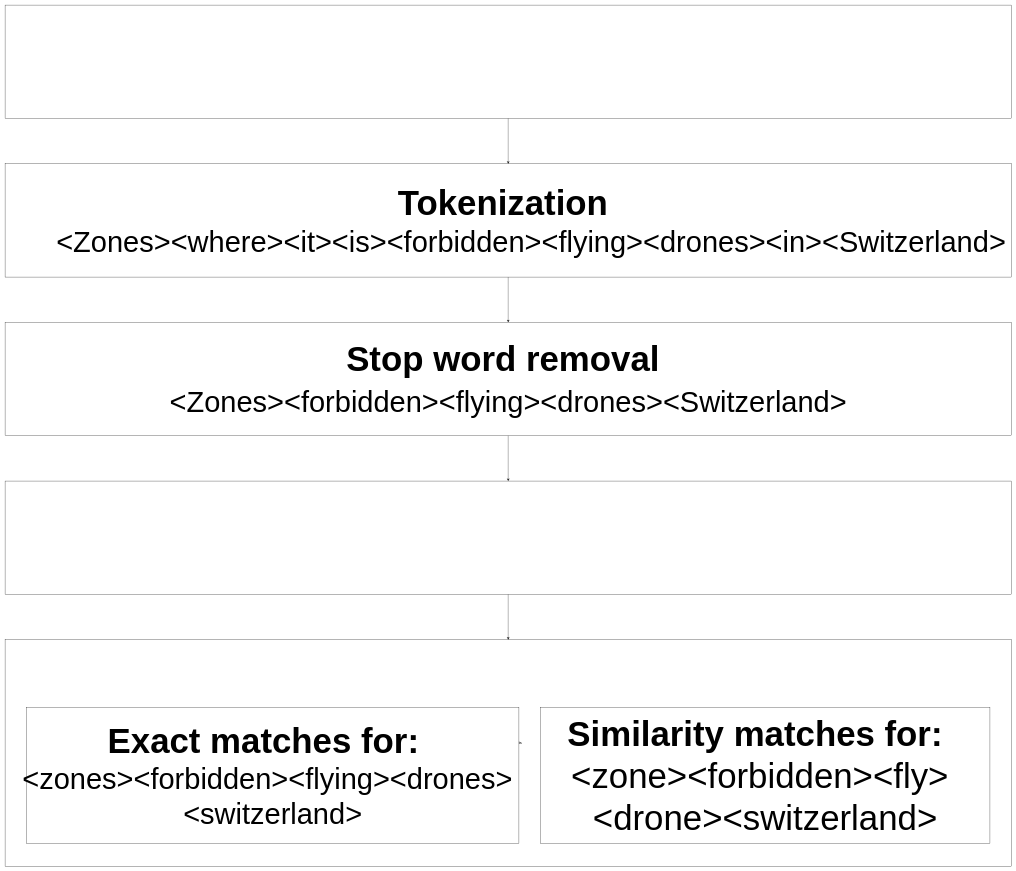
This 1016x871 diagram has some shape labels left out. Each missing label, with the box of its shape:
Search Query Zones where it's forbidden flying drones in Switzerland: (5, 5, 1011, 118)
Stemming <zone><forbidden><fly><drone><switzerland>: (5, 481, 1011, 594)
